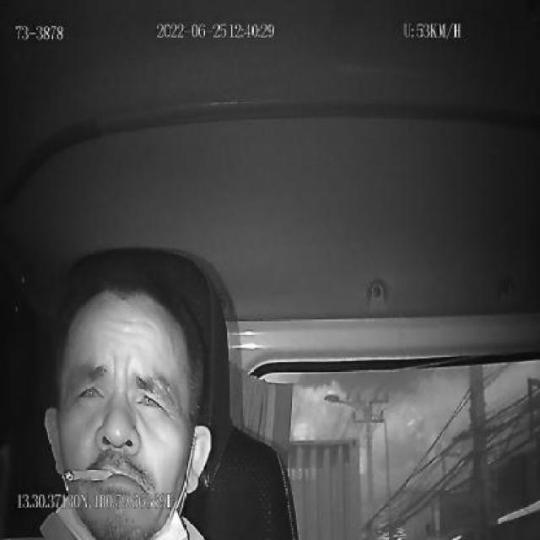smoking: (63, 466, 116, 487)
